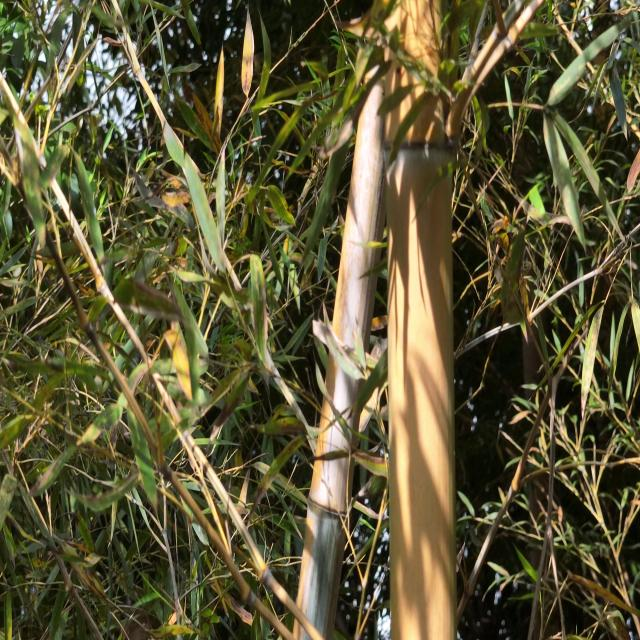Bamboo-shoots: (292, 59, 384, 640)
